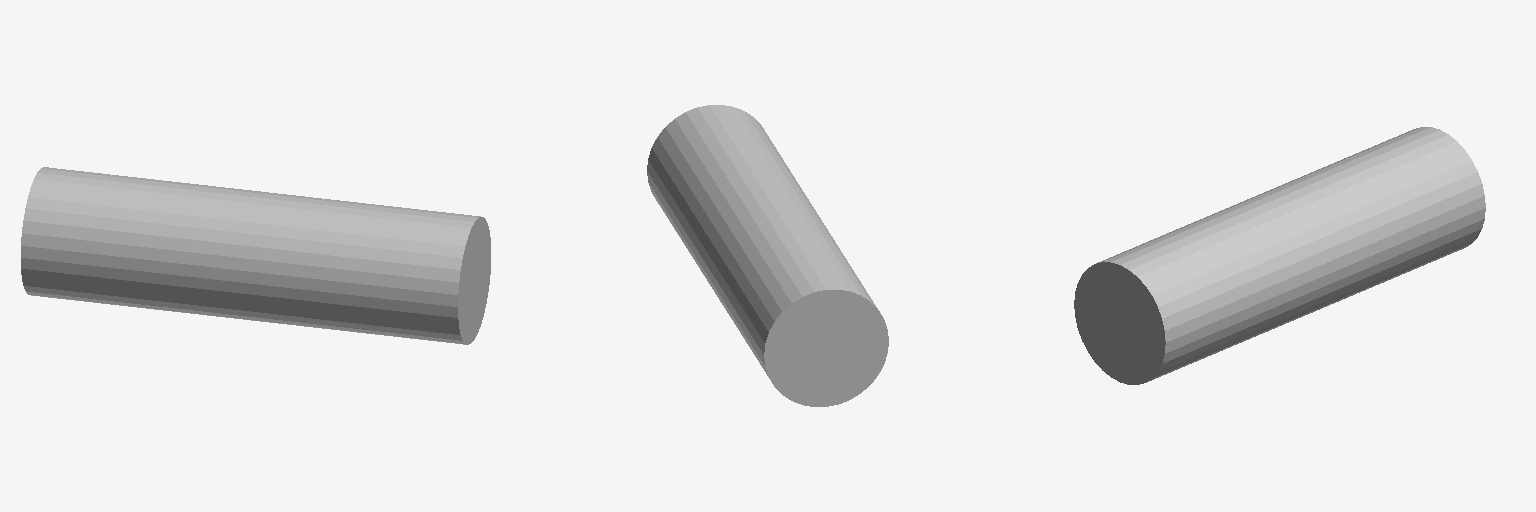
The model's file is baulk_1.obj.
The picture shows the model from 3 angles: view 1: azimuth 30°, elevation 25°; view 2: azimuth 150°, elevation 25°; view 3: azimuth 270°, elevation 25°; orthographic projection.
Size of the model in its own units: 0.6364 by 0.2 by 0.6364.